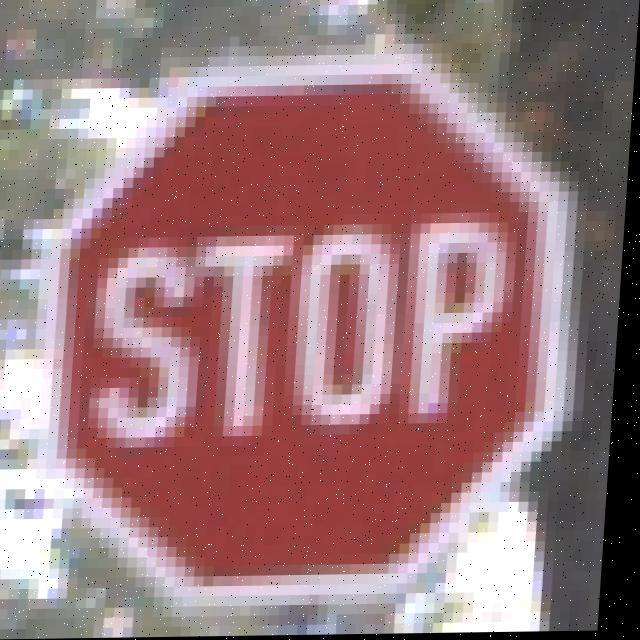stop: (8, 56, 590, 603)
